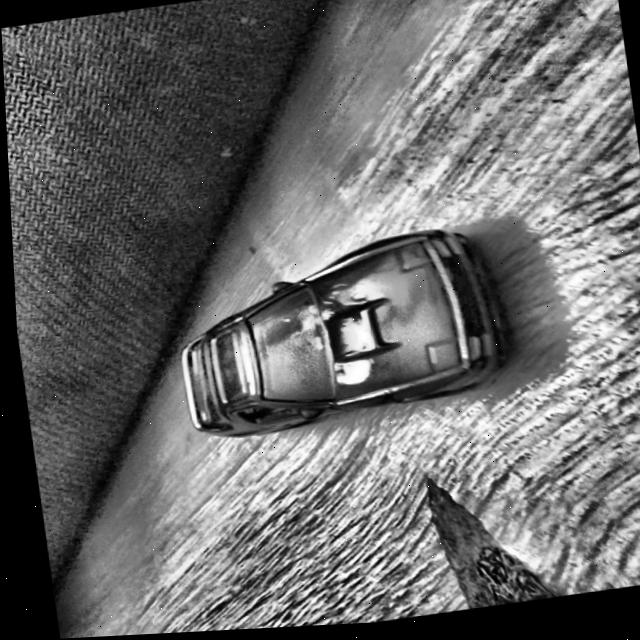car: (161, 224, 512, 446)
